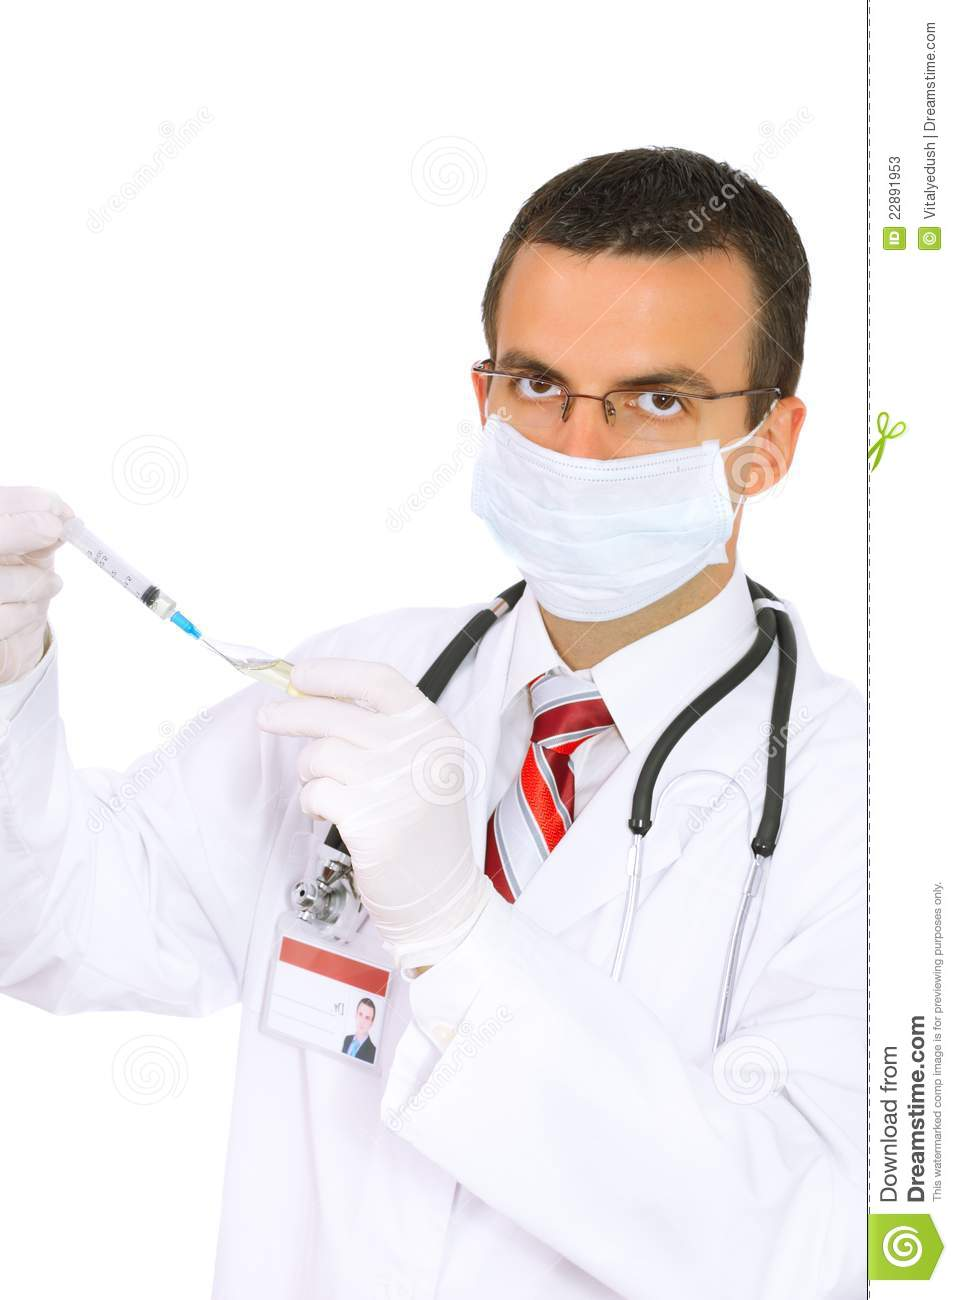mask: (446, 419, 748, 625)
